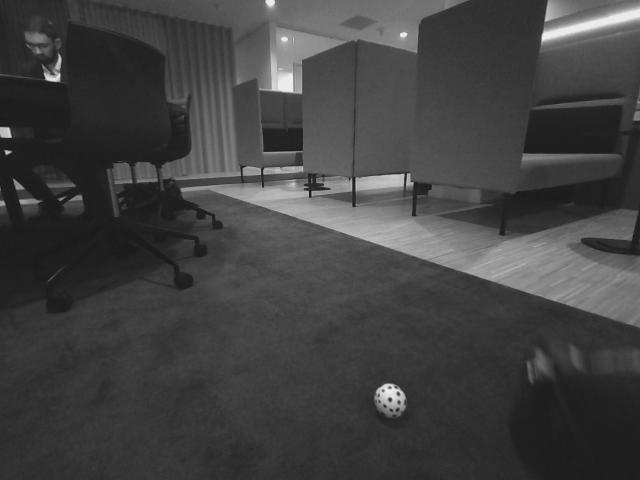dogtoy: (369, 377, 415, 425)
